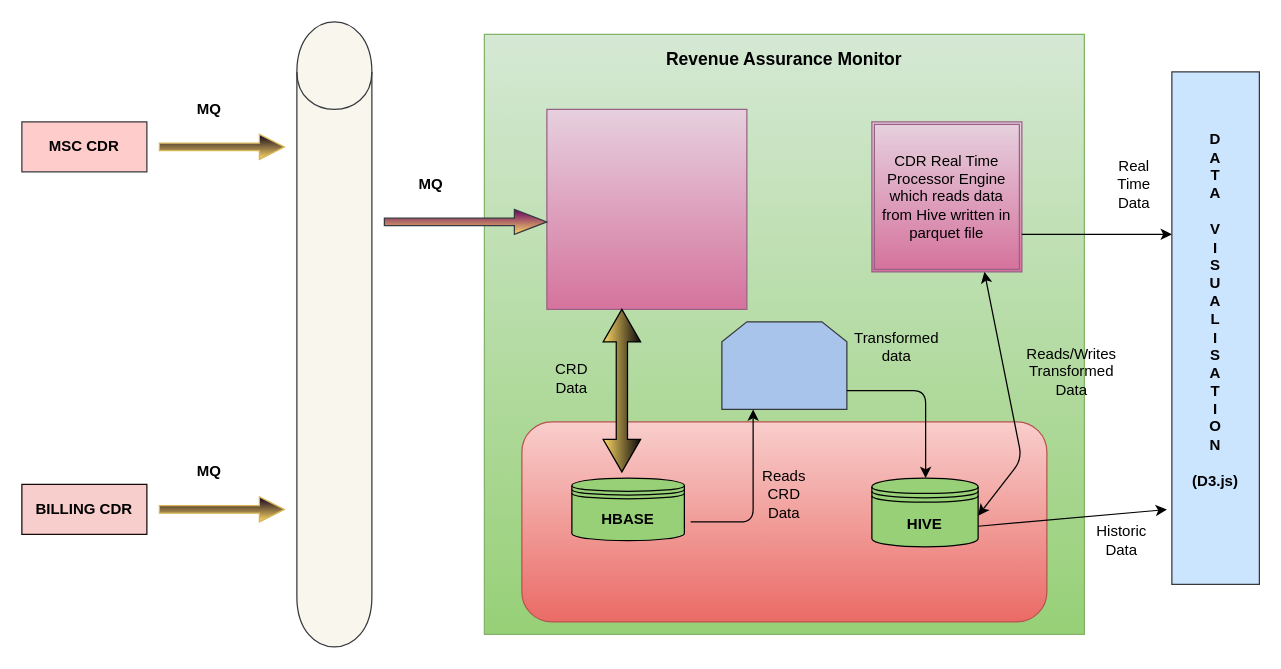
The diagram is 1281 pixels wide and 669 high, and some of its shapes have lost their labels. The centre of each missing label's shape, as x and y in pixels:
"CDR Data Processor Engine Reads data from Kafka and loads into HBASE Big table" belongs at (646,208).
"K A F K A S T O R E" belongs at (334,334).
"SPARK ETL" belongs at (784,365).
